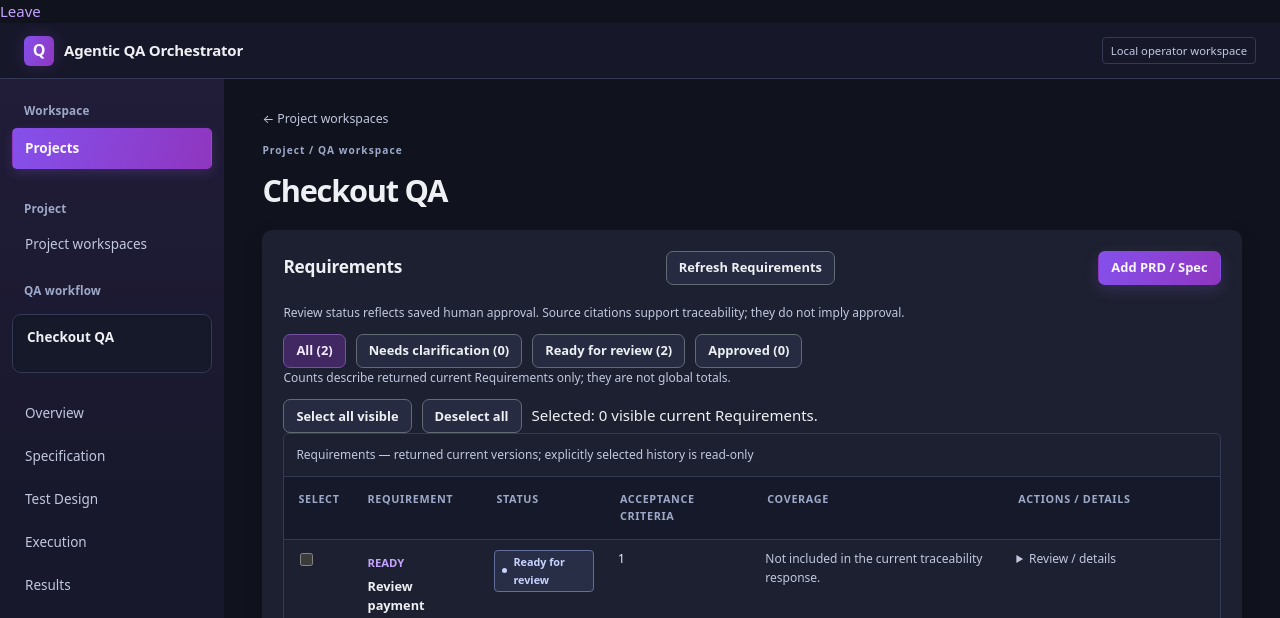
Test case: Requirements work table › does not continue a pending bulk batch after unmount
Click the button "Select all visible".
click(348, 416)  # box [283, 399, 412, 433]
(page scrolled)
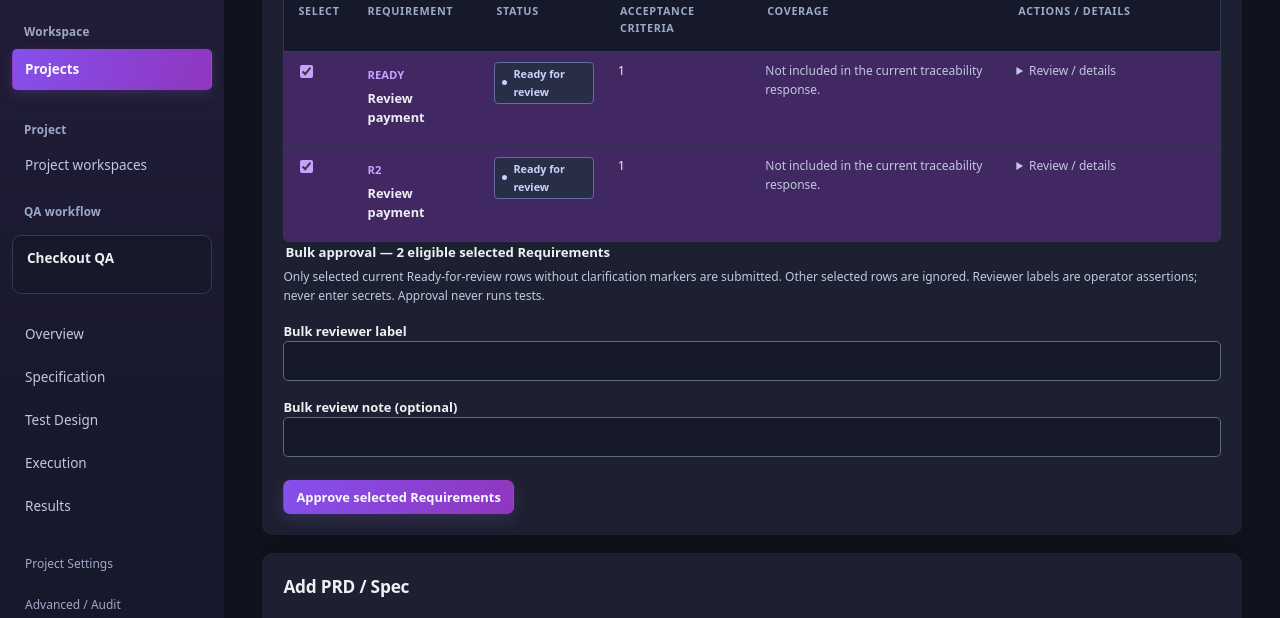
Type "qa-human" into the field labelled "Bulk reviewer label".
click(752, 361); type("qa-human")  # box [283, 341, 1221, 381]
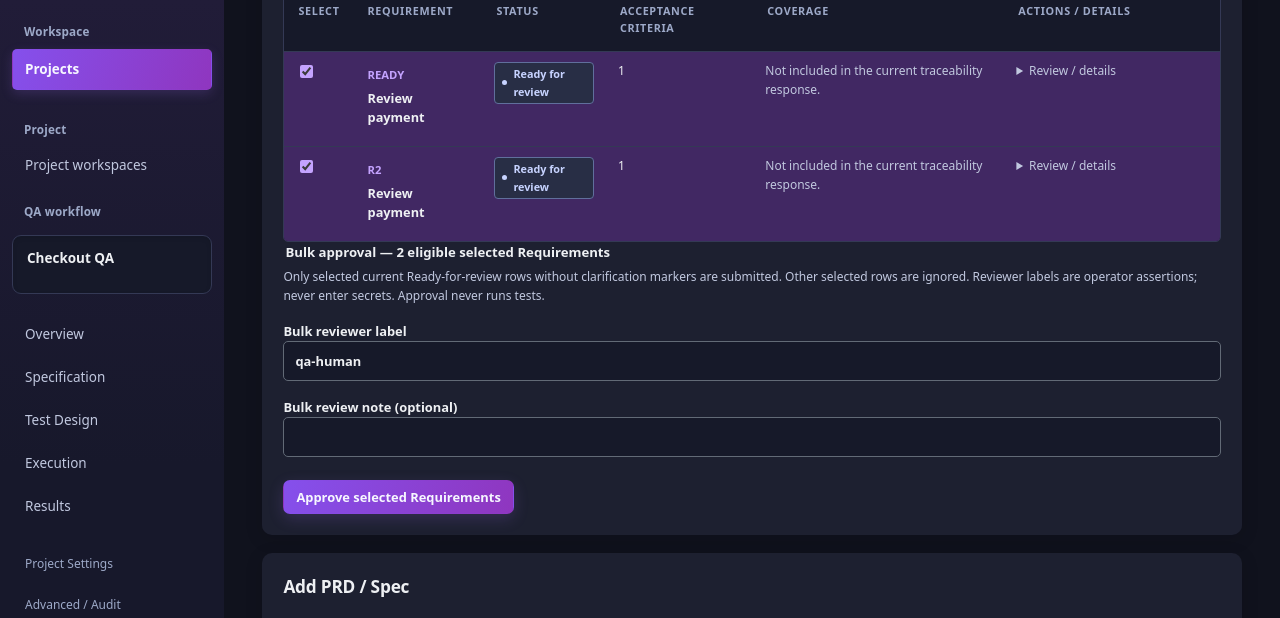
Submit the form named "Bulk approve Requirements", box [283, 242, 1221, 514]
(page scrolled)
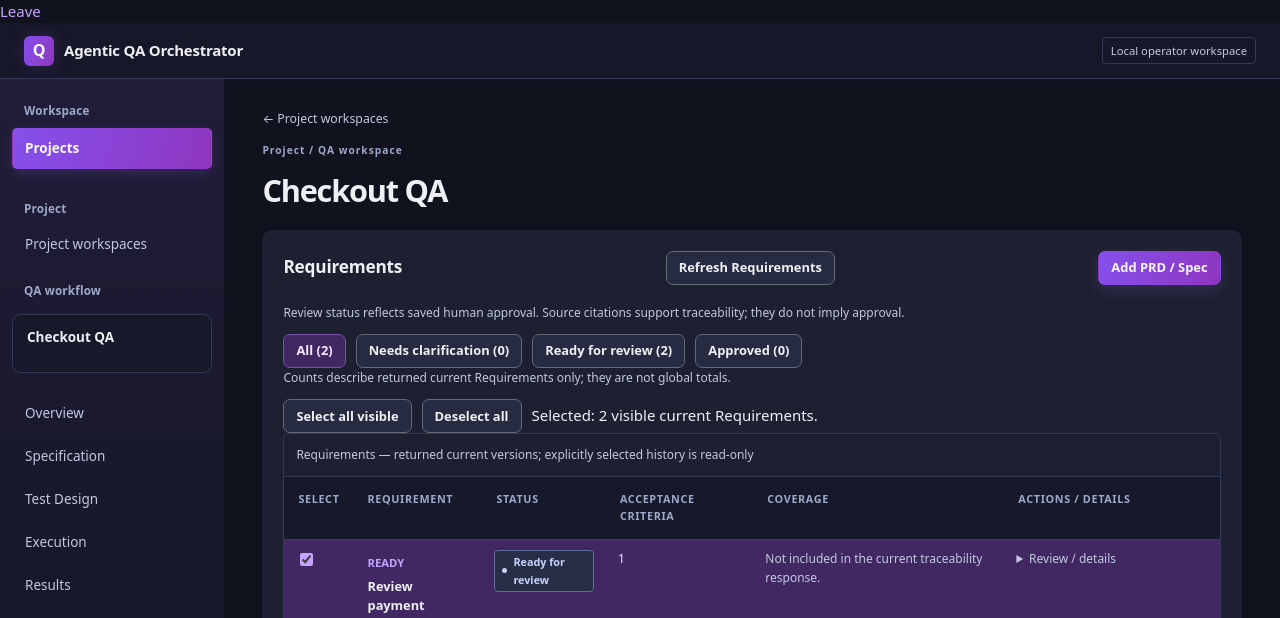
Click the link "Leave".
click(20, 11)  # box [0, 1, 41, 21]
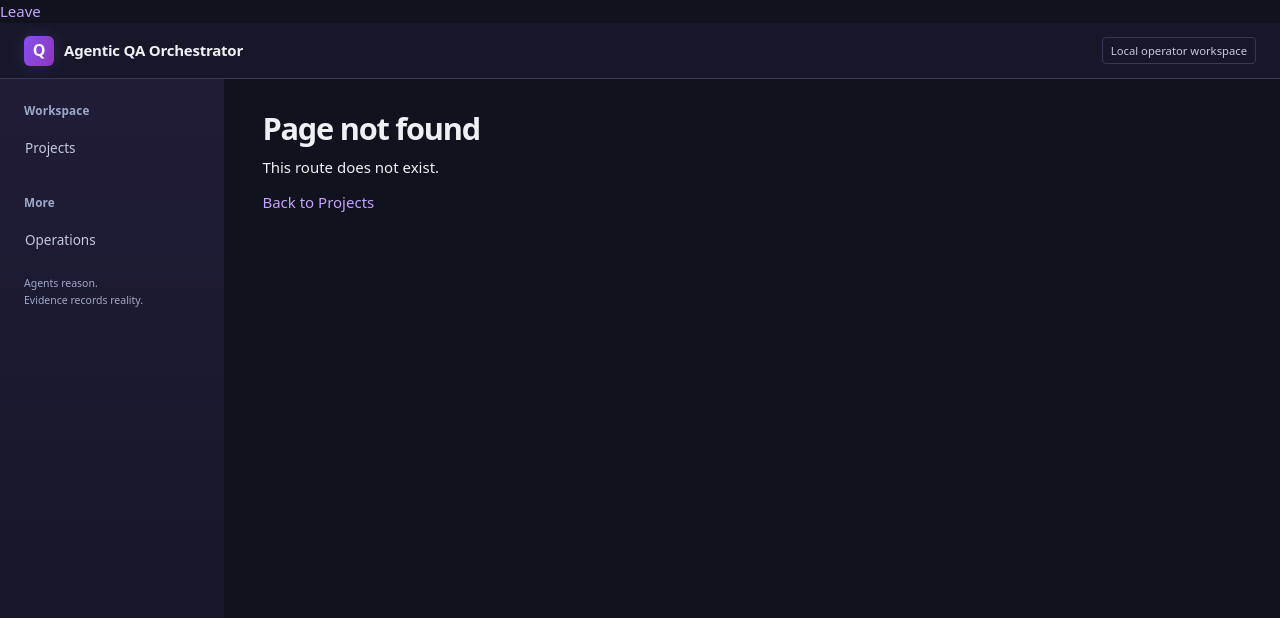
Check: the heading "Page not found" is shown, box [262, 107, 480, 149]
